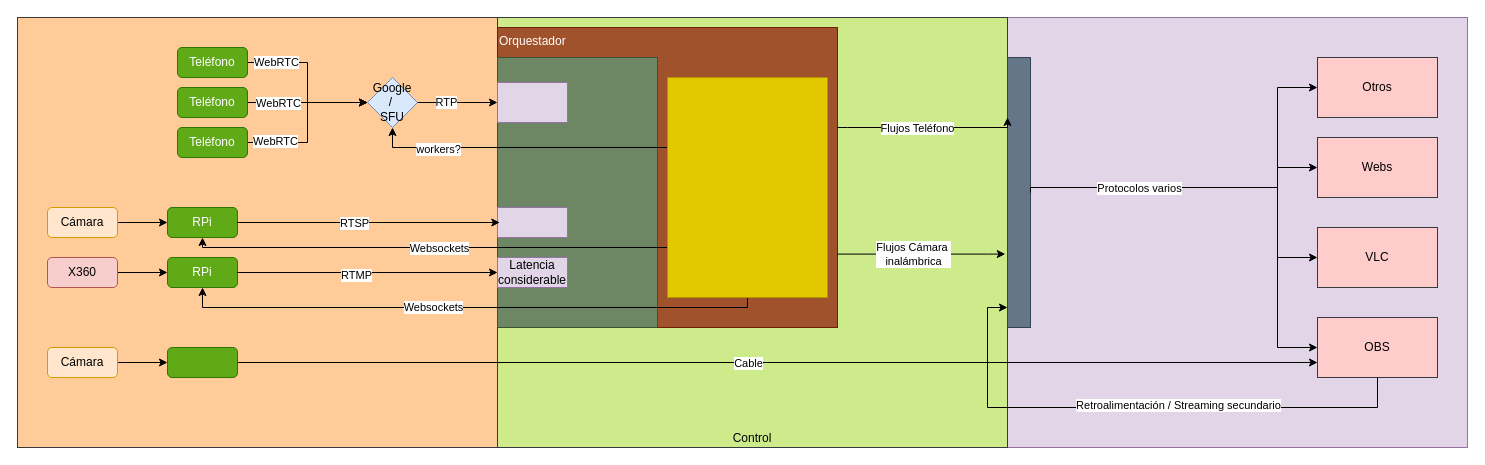
This 1485x465 diagram has some shape labels left out. The shapes that lost their labels are listed below. From the top down, each one's box as (x1, y1, x2, y2) in pixels, then its label:
(496, 82, 568, 122): Latencia muy baja
(496, 56, 658, 328): Determinar latencias (NTP)
(666, 76, 828, 298): Control de flujos
(1006, 56, 1030, 328): MediaMTX
(16, 16, 498, 448): Generación
(496, 206, 568, 238): Latencia baja
(1002, 16, 1468, 448): Distribución
(166, 346, 238, 378): Capturadora
